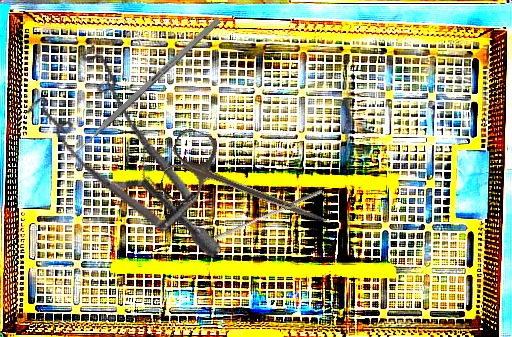Iris Scissors: (156, 125, 341, 252)
Pusher: (61, 16, 222, 167), (213, 184, 324, 245)
Speculum: (0, 31, 273, 259)
